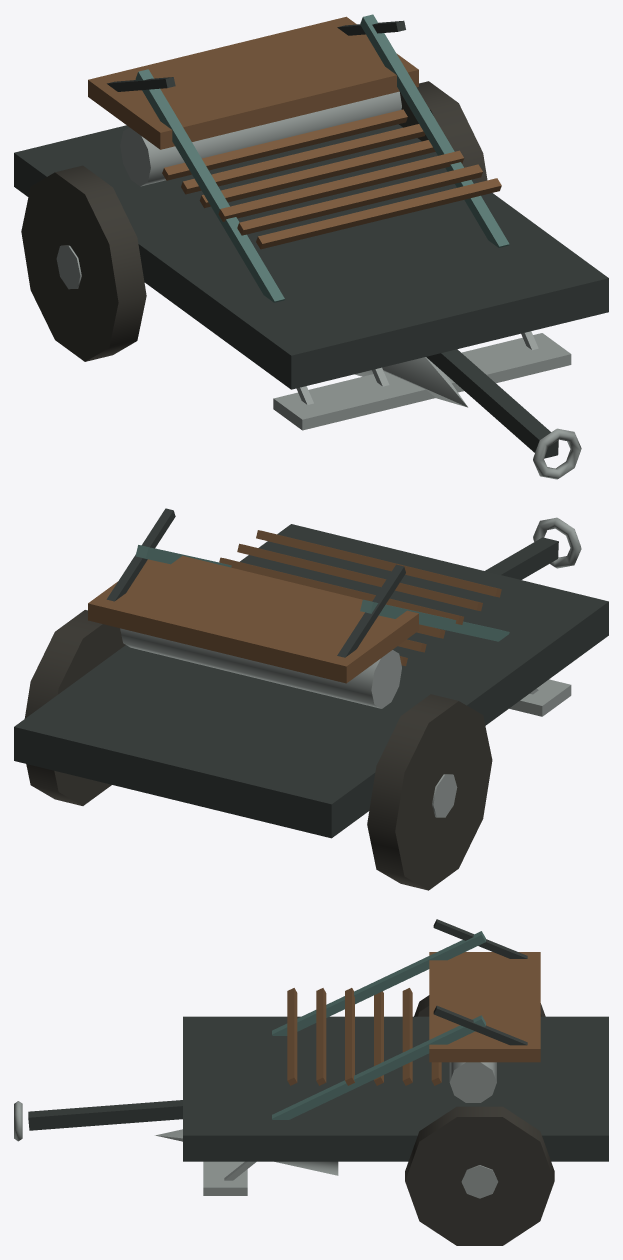
Rendered from potato-harvester.source.glb.
3 renders of one model, top to bottom at view 1: azimuth 30°, elevation 25°; view 2: azimuth 150°, elevation 25°; view 3: azimuth 270°, elevation 25°, orthographic. The views are drawn at different scales.
Parts seen in each view (by area): view 1: potato-harvester-main-frame-mesh, potato-harvester-sorting-deck-mesh, potato-harvester-tire-mesh (×2), potato-harvester-share-knife-mesh, potato-harvester-web-drive-roller-mesh, potato-harvester-web-rail--0.76-mesh, potato-harvester-tractor-drawbar-mesh, potato-harvester-web-rail-0.76-mesh, potato-harvester-web-slat-1-mesh, potato-harvester-web-slat-0-mesh, potato-harvester-web-slat-2-mesh, potato-harvester-web-slat-5-mesh (+6 smaller); view 2: potato-harvester-main-frame-mesh, potato-harvester-tire-mesh (×2), potato-harvester-sorting-deck-mesh, potato-harvester-web-drive-roller-mesh, potato-harvester-web-slat-0-mesh, potato-harvester-web-slat-1-mesh, potato-harvester-web-slat-2-mesh, potato-harvester-tractor-drawbar-mesh, potato-harvester-web-rail--0.76-mesh, potato-harvester-sorter-rail--0.78-mesh, potato-harvester-share-knife-mesh, potato-harvester-sorter-rail-0.78-mesh (+3 smaller); view 3: potato-harvester-main-frame-mesh, potato-harvester-tire-mesh, potato-harvester-sorting-deck-mesh, potato-harvester-tractor-drawbar-mesh, potato-harvester-web-rail-0.76-mesh, potato-harvester-web-rail--0.76-mesh, potato-harvester-web-drive-roller-mesh, potato-harvester-share-knife-mesh, potato-harvester-web-slat-1-mesh, potato-harvester-web-slat-0-mesh, potato-harvester-web-slat-2-mesh, potato-harvester-sorter-rail-0.78-mesh (+5 smaller).
Boxes of the visible parts, <box> form: potato-harvester-main-frame-mesh: <box>14,124,608,389</box>; potato-harvester-sorting-deck-mesh: <box>88,16,418,149</box>; potato-harvester-tire-mesh (×2): <box>21,81,487,361</box>; potato-harvester-share-knife-mesh: <box>273,333,571,430</box>; potato-harvester-web-drive-roller-mesh: <box>120,91,401,186</box>; potato-harvester-web-rail--0.76-mesh: <box>135,69,284,302</box>; potato-harvester-tractor-drawbar-mesh: <box>426,349,558,458</box>; potato-harvester-web-rail-0.76-mesh: <box>360,14,509,247</box>; potato-harvester-web-slat-1-mesh: <box>237,164,482,235</box>; potato-harvester-web-slat-0-mesh: <box>256,178,501,249</box>; potato-harvester-web-slat-2-mesh: <box>218,150,464,221</box>; potato-harvester-web-slat-5-mesh: <box>162,109,407,180</box>; potato-harvester-main-frame-mesh: <box>14,524,608,838</box>; potato-harvester-tire-mesh (×2): <box>24,610,492,890</box>; potato-harvester-sorting-deck-mesh: <box>88,556,418,683</box>; potato-harvester-web-drive-roller-mesh: <box>120,628,401,708</box>; potato-harvester-web-slat-0-mesh: <box>256,530,501,597</box>; potato-harvester-web-slat-1-mesh: <box>237,543,482,611</box>; potato-harvester-web-slat-2-mesh: <box>219,557,463,624</box>; potato-harvester-tractor-drawbar-mesh: <box>485,537,558,579</box>; potato-harvester-web-rail--0.76-mesh: <box>360,599,509,641</box>; potato-harvester-sorter-rail--0.78-mesh: <box>337,564,405,657</box>; potato-harvester-share-knife-mesh: <box>509,679,571,716</box>; potato-harvester-sorter-rail-0.78-mesh: <box>106,508,175,601</box>; potato-harvester-main-frame-mesh: <box>183,1016,608,1161</box>; potato-harvester-tire-mesh: <box>405,1106,554,1245</box>; potato-harvester-sorting-deck-mesh: <box>429,952,540,1062</box>; potato-harvester-tractor-drawbar-mesh: <box>28,1100,182,1130</box>; potato-harvester-web-rail-0.76-mesh: <box>272,1015,485,1119</box>; potato-harvester-web-rail--0.76-mesh: <box>272,931,485,1035</box>; potato-harvester-web-drive-roller-mesh: <box>449,1062,496,1102</box>; potato-harvester-share-knife-mesh: <box>203,1161,247,1195</box>; potato-harvester-web-slat-1-mesh: <box>316,988,326,1085</box>; potato-harvester-web-slat-0-mesh: <box>287,988,297,1085</box>; potato-harvester-web-slat-2-mesh: <box>345,988,354,1085</box>; potato-harvester-sorter-rail-0.78-mesh: <box>433,1005,527,1045</box>.
Size of the model in its own units: 2.55 by 1.79 by 4.54.
